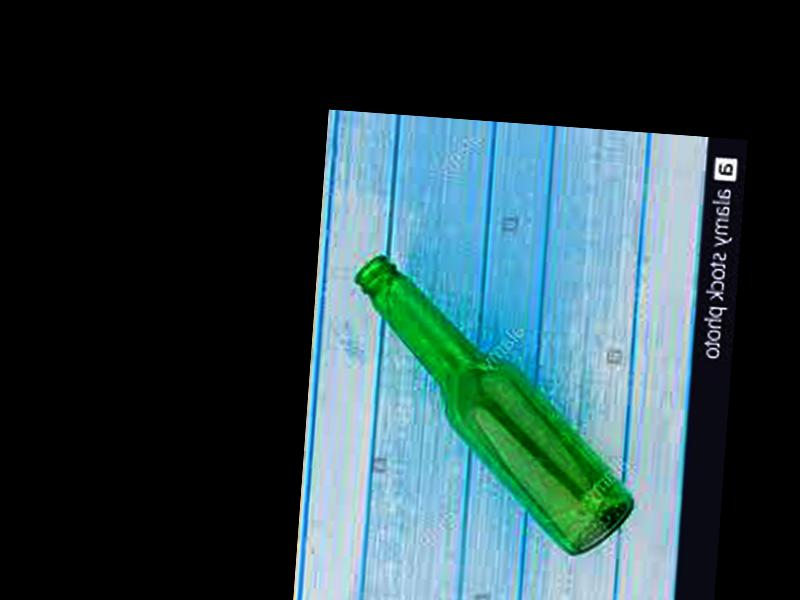Beer: (335, 251, 655, 562)
